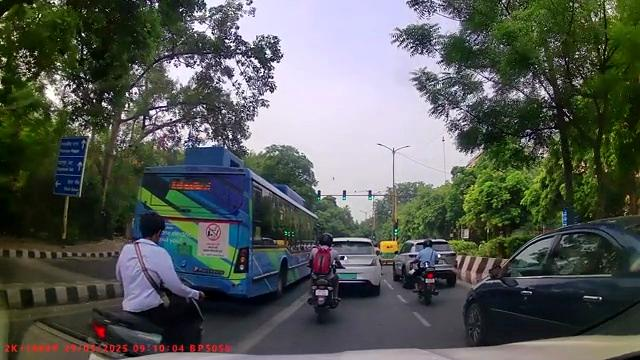motorcycle_with_helmet: (307, 231, 343, 321), (412, 238, 440, 305)
motorcycle_without_helmet: (88, 213, 207, 355)
